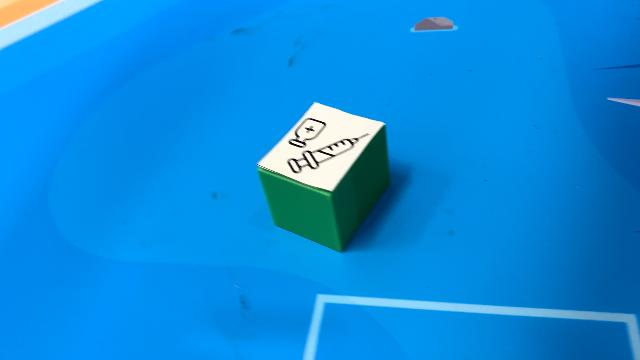syringe: (255, 102, 390, 252)
